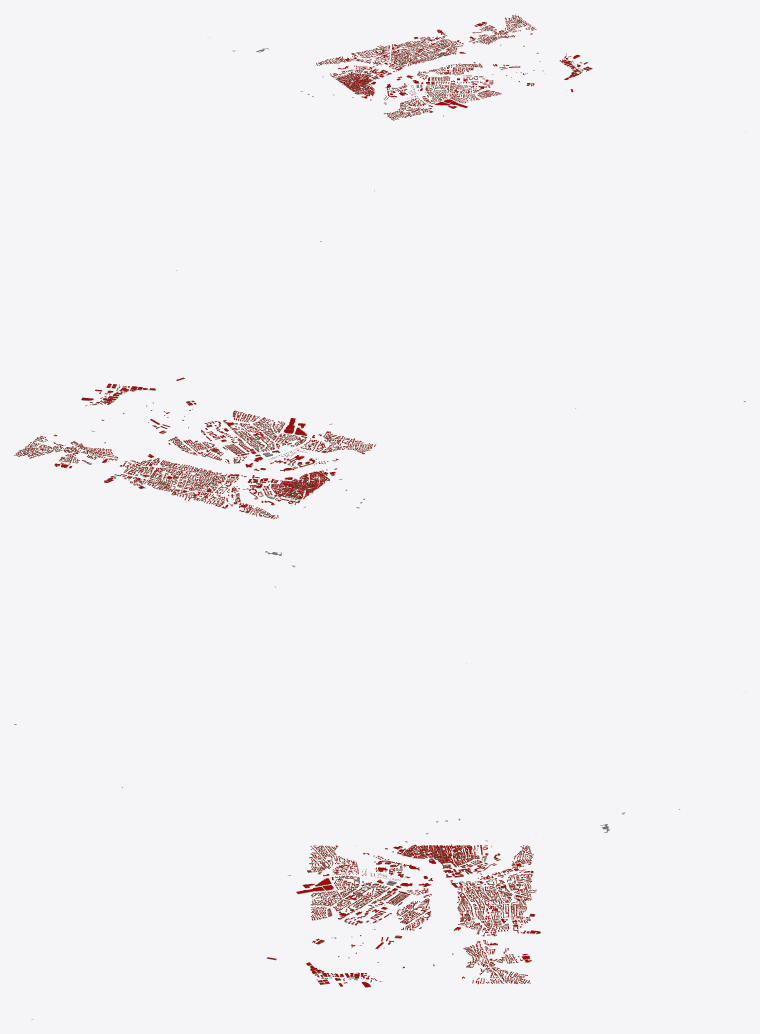
File: ing_f3e82001_merged.fbx
3 views of the same model, one above another, from view 1: azimuth 30°, elevation 25°; view 2: azimuth 150°, elevation 25°; view 3: azimuth 270°, elevation 25° (orthographic). The views are drawn at different scales.
Bounding box in the file's own units: 988875 × 6300 × 934648.
